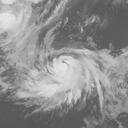cyclone: (22, 47, 106, 106)
